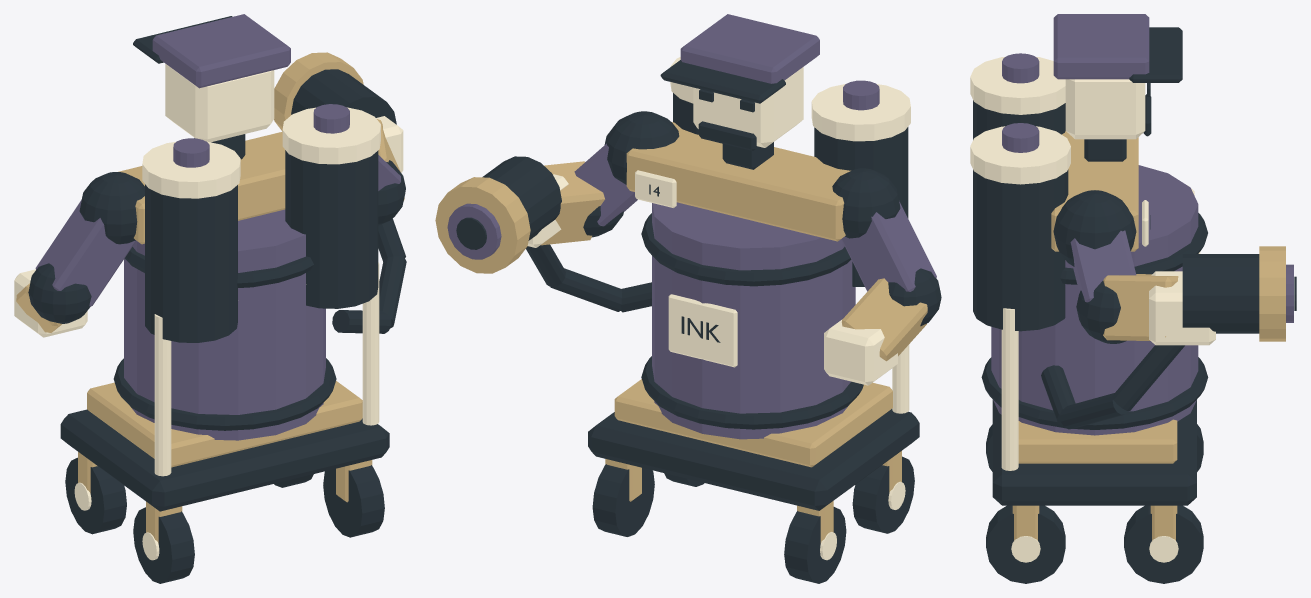
The picture shows the model from 3 angles, left to right: view 1: azimuth 30°, elevation 25°; view 2: azimuth 150°, elevation 25°; view 3: azimuth 270°, elevation 25°; orthographic projection.
Visible parts, largest first — view 1: ink_belly, cart_deck, back_reservoir_0, back_reservoir_1, flat_work_cap, cart_lower_tray, operator_face, left_upper_arm, upper_crossbar, reservoir_lid_0, reservoir_lid_1, belly_band_0.64 (+22 smaller); view 2: ink_belly, cart_deck, upper_crossbar, cart_lower_tray, flat_work_cap, nozzle_collar, left_upper_arm, operator_face, reservoir_lid_0, belly_band_0.64, belly_label, back_reservoir_0 (+24 smaller); view 3: ink_belly, back_reservoir_1, cart_deck, flat_work_cap, nozzle_barrel, cart_lower_tray, operator_face, reservoir_lid_1, right_shoulder_joint, R_rear_wheel, R_front_wheel, reservoir_lid_0 (+22 smaller).
Boxes of the visible parts, x1,y1,x2,y2 form: ink_belly: [124, 209, 325, 440]; cart_deck: [60, 409, 389, 511]; back_reservoir_0: [145, 184, 237, 342]; back_reservoir_1: [285, 150, 378, 308]; flat_work_cap: [152, 14, 290, 88]; cart_lower_tray: [87, 381, 362, 467]; operator_face: [165, 64, 274, 142]; left_upper_arm: [35, 199, 136, 306]; upper_crossbar: [118, 131, 285, 244]; reservoir_lid_0: [142, 141, 240, 198]; reservoir_lid_1: [282, 107, 380, 164]; belly_band_0.64: [113, 358, 336, 430]; ink_belly: [652, 202, 855, 439]; cart_deck: [588, 409, 919, 510]; upper_crossbar: [626, 122, 850, 241]; cart_lower_tray: [614, 379, 892, 467]; flat_work_cap: [680, 14, 819, 83]; nozzle_collar: [435, 177, 530, 273]; left_upper_arm: [841, 201, 936, 291]; operator_face: [693, 67, 803, 147]; reservoir_lid_0: [811, 84, 910, 141]; belly_band_0.64: [641, 356, 863, 429]; belly_label: [668, 294, 737, 367]; back_reservoir_0: [814, 127, 908, 286]; ink_belly: [991, 165, 1198, 435]; back_reservoir_1: [973, 169, 1068, 331]; cart_deck: [992, 400, 1196, 505]; flat_work_cap: [1053, 14, 1149, 79]; nozzle_barrel: [1182, 254, 1259, 333]; cart_lower_tray: [1018, 419, 1177, 463]; operator_face: [1065, 79, 1145, 139]; reservoir_lid_1: [970, 126, 1070, 184]; right_shoulder_joint: [1053, 190, 1136, 266]; R_rear_wheel: [986, 505, 1065, 583]; R_front_wheel: [1124, 505, 1203, 583]; reservoir_lid_0: [970, 57, 1065, 114].
Size of the model in its own units: 1.81 by 2.06 by 1.23.
